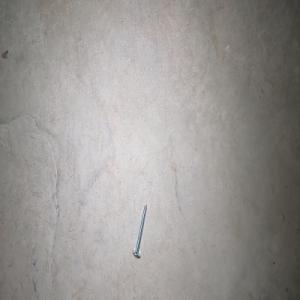Bolt: (132, 203, 147, 257)
